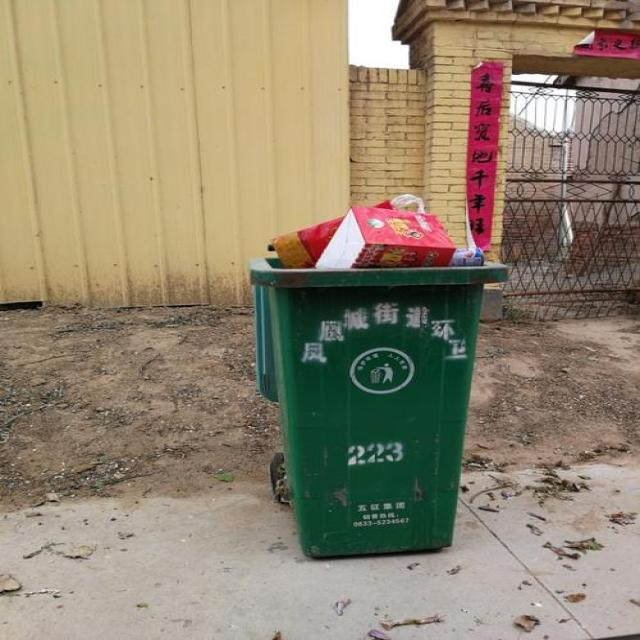overflow: (247, 193, 507, 557)
